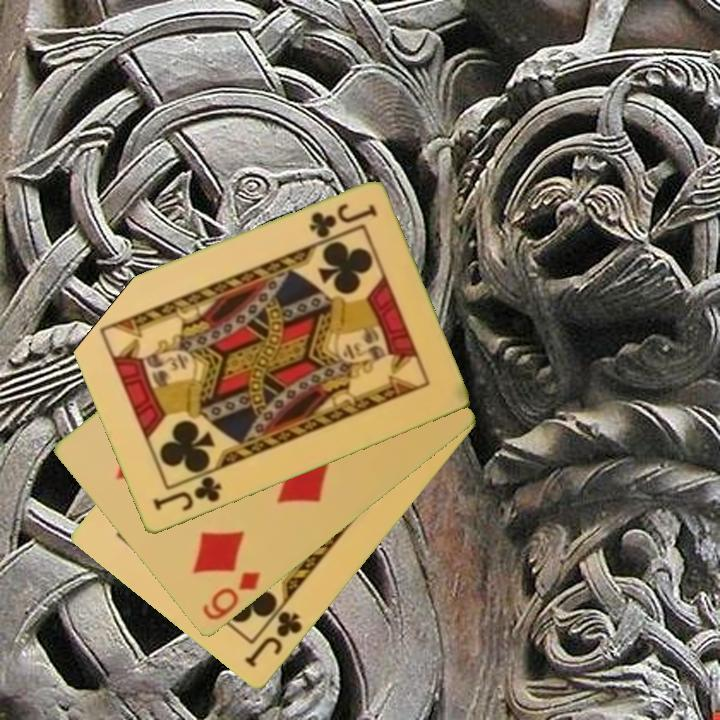6d: (199, 568, 264, 624)
Jc: (241, 607, 306, 672), (149, 473, 225, 515), (305, 200, 380, 242)
